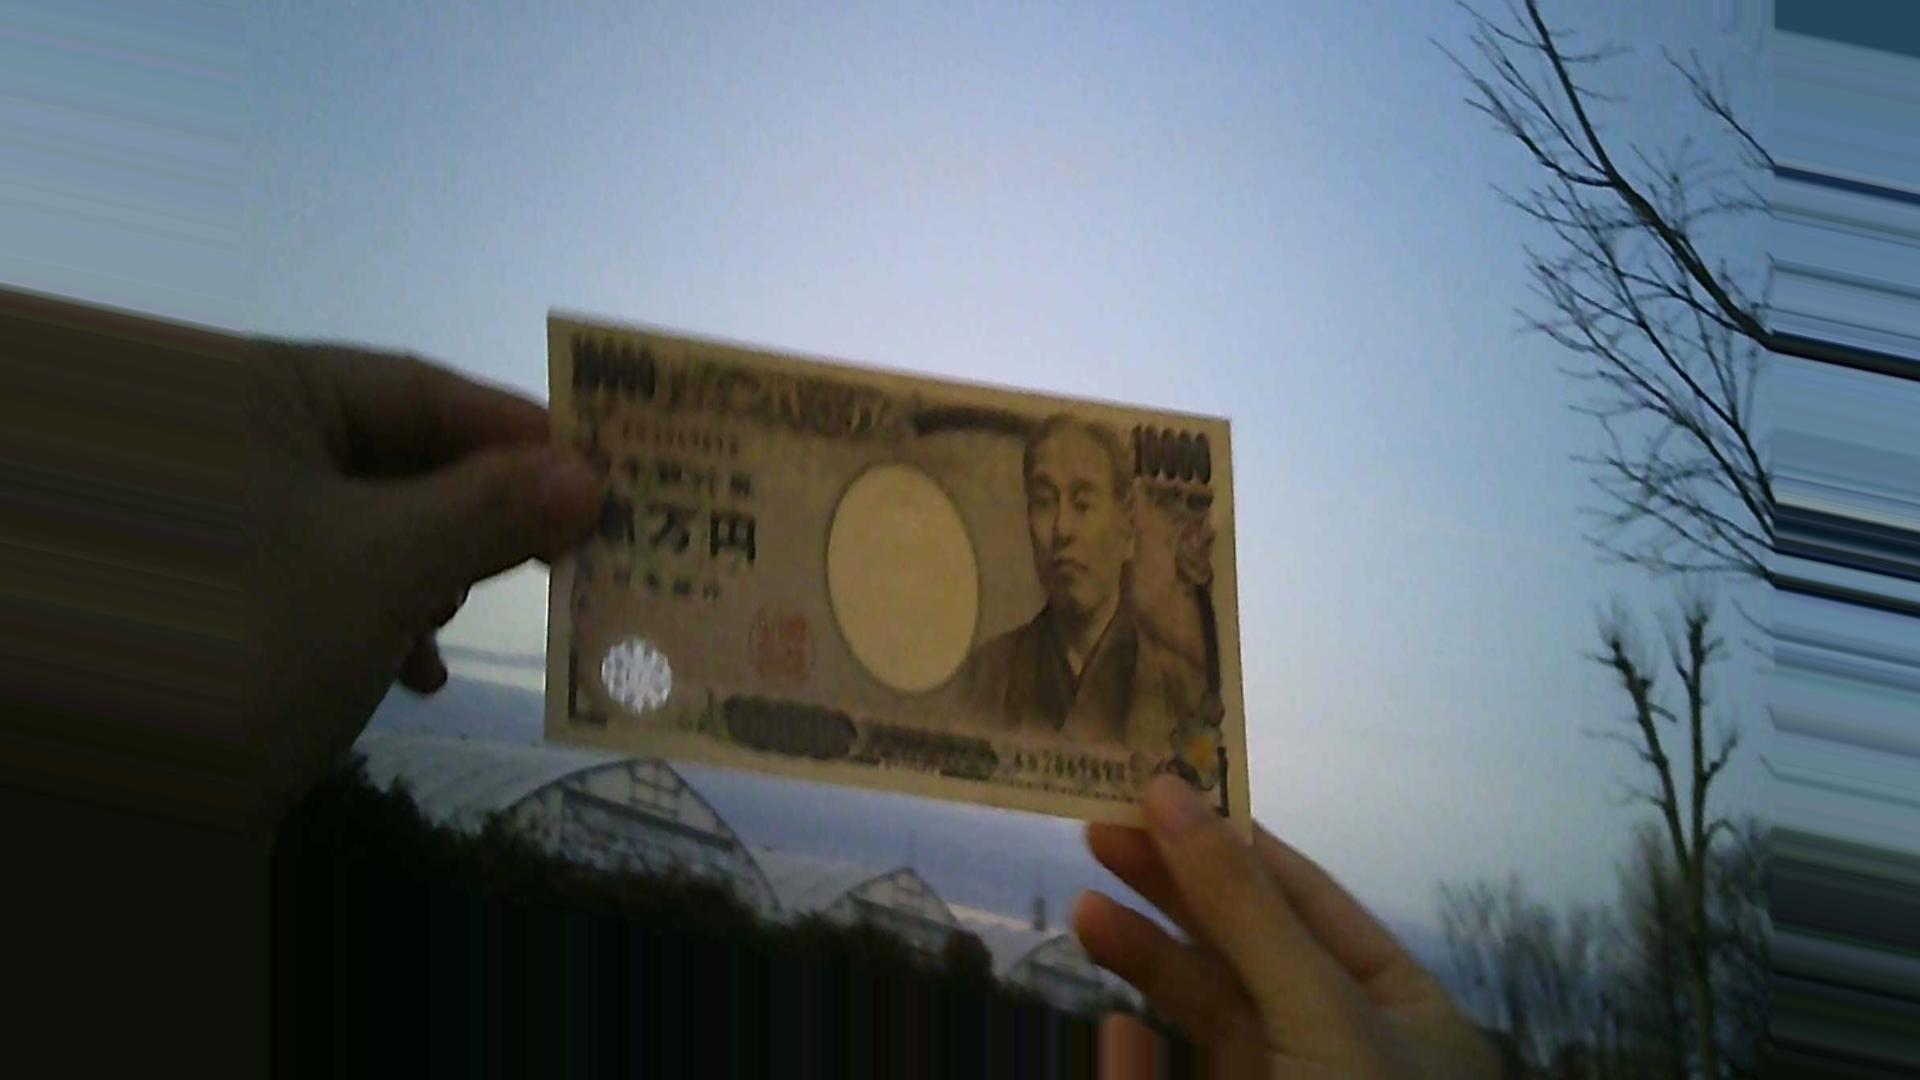10,000 Yen: (531, 301, 1287, 833)
